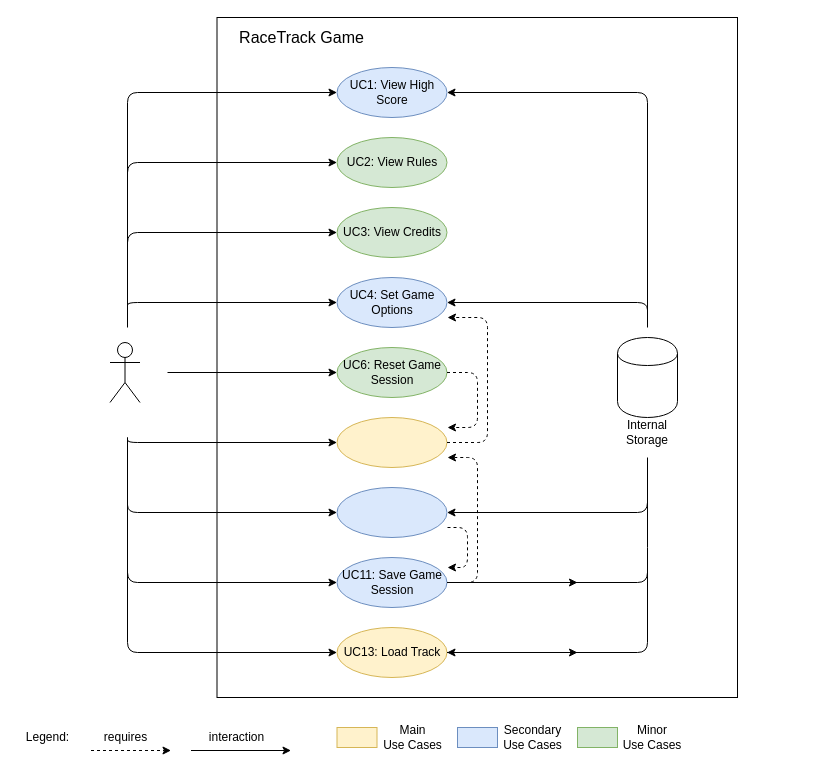
Some shapes in this 837 by 776 pixel diagram are drawn without their labels. The shapes that lost their labels are listed below. From the top down, each one's centre as x and y in pixels, then its label:
At [124,372]: "Player".
At [391,442]: "UC7: Play one Game Session".
At [391,512]: "UC10: Load Game Session".
